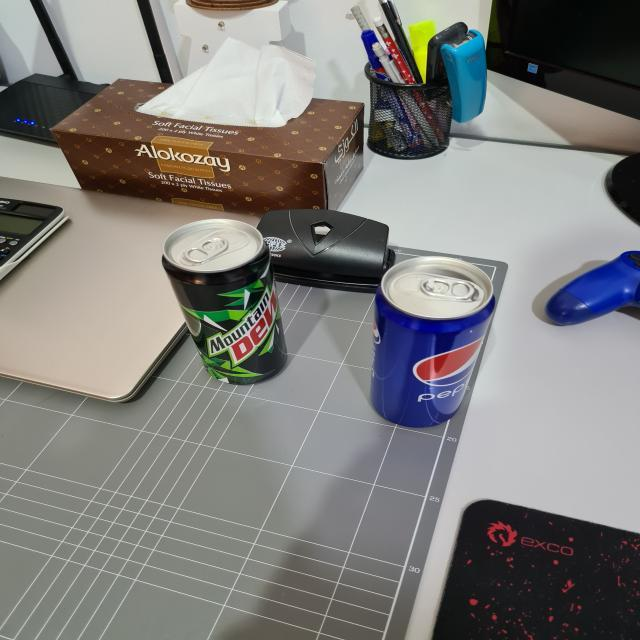can: (148, 218, 292, 391), (367, 258, 502, 432)
